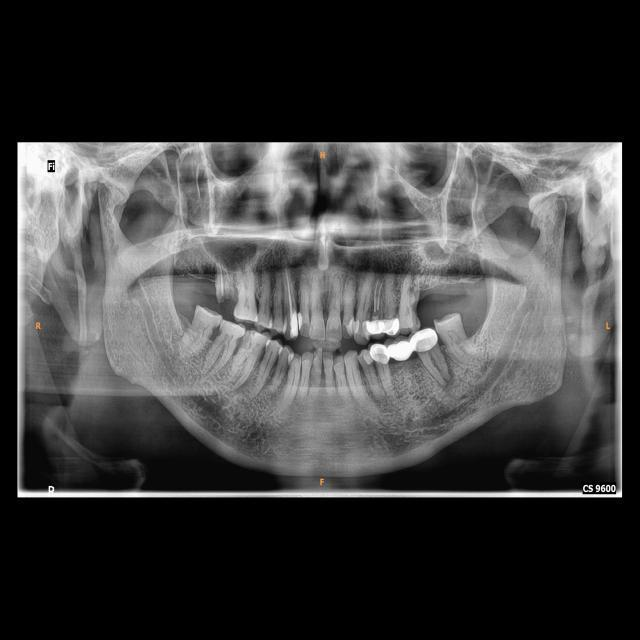dolgu: (284, 307, 306, 337)
kanal-tedavisi: (284, 265, 296, 313), (372, 279, 382, 314)
kaplama: (411, 327, 439, 354), (370, 342, 391, 366), (382, 313, 402, 337), (365, 317, 385, 336)
kirik: (216, 278, 242, 311)
kopru: (378, 336, 425, 362)
